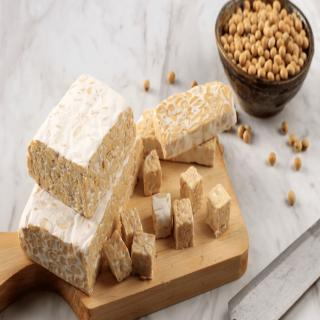Tempe: (19, 136, 145, 297), (27, 74, 137, 220), (104, 230, 133, 283), (206, 184, 232, 240), (131, 232, 157, 281), (180, 166, 204, 215), (173, 198, 195, 251), (119, 207, 144, 251), (153, 192, 174, 240), (143, 150, 163, 197)
